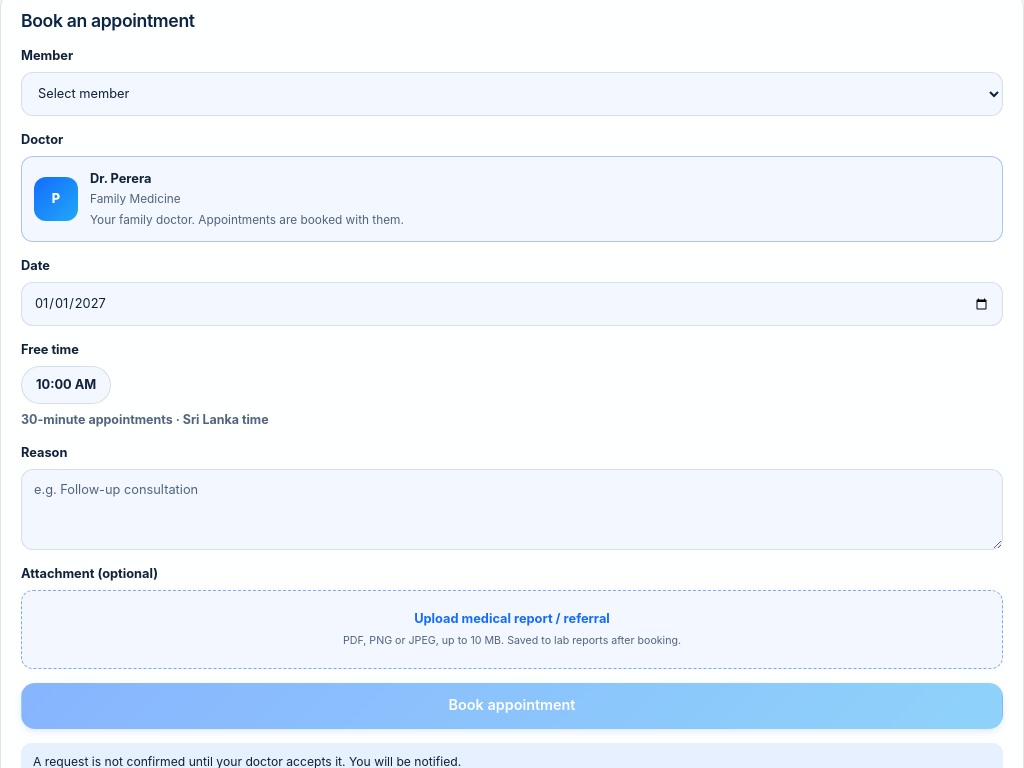
Scenario: AppointmentsPage booking form › clears a rejected selection and refreshes availability with the server reason
(page scrolled)
Click the button "10:00 AM". click: point(66, 385)
box: [21,366,111,404]
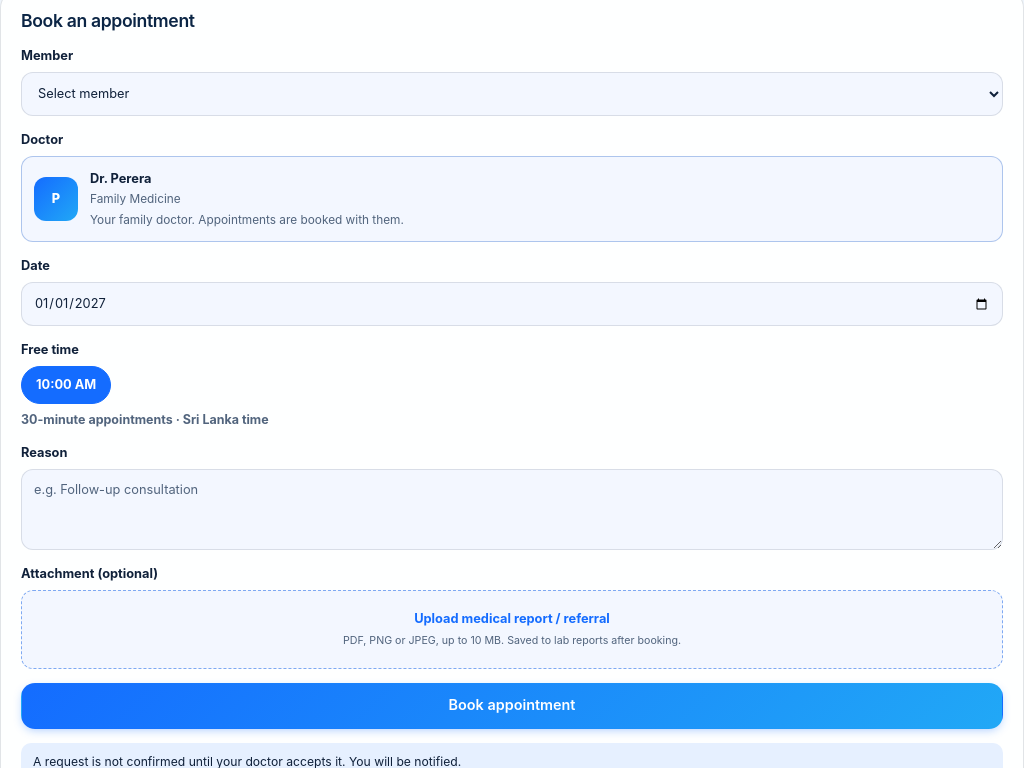
Select "Me" in the dropdown labelled "Member". click: point(512, 94)
box: [21,72,1003,116]
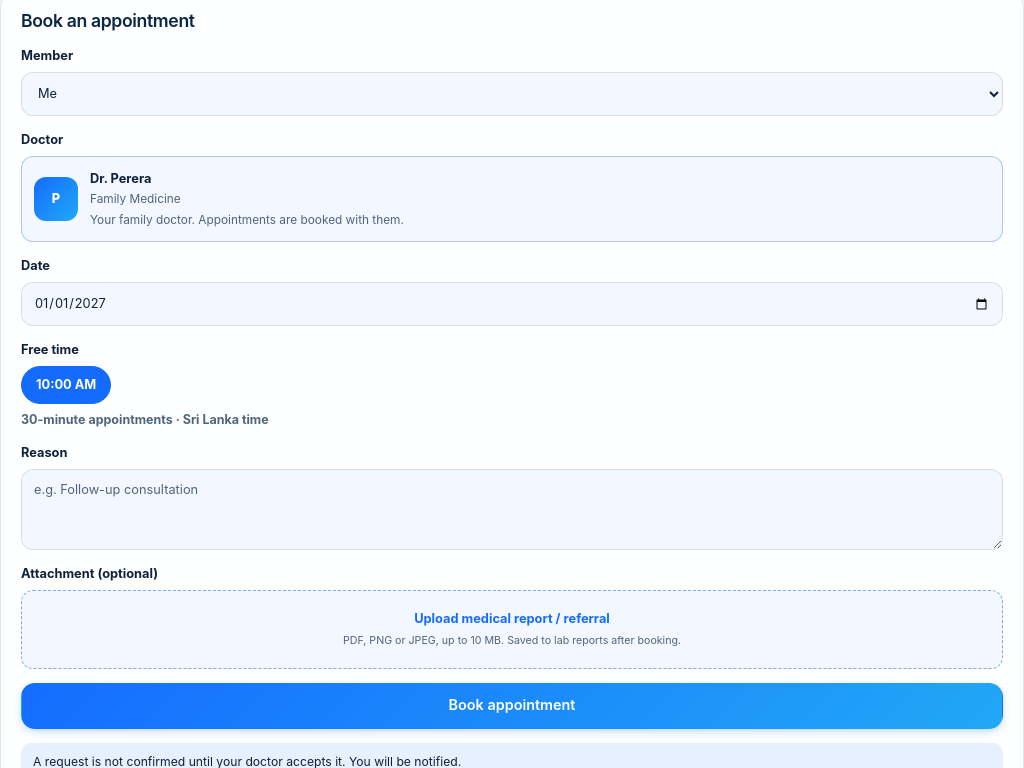
Type "Synthetic follow-up" into the text box labelled "Reason". click: point(512, 510)
box: [21,469,1003,550]
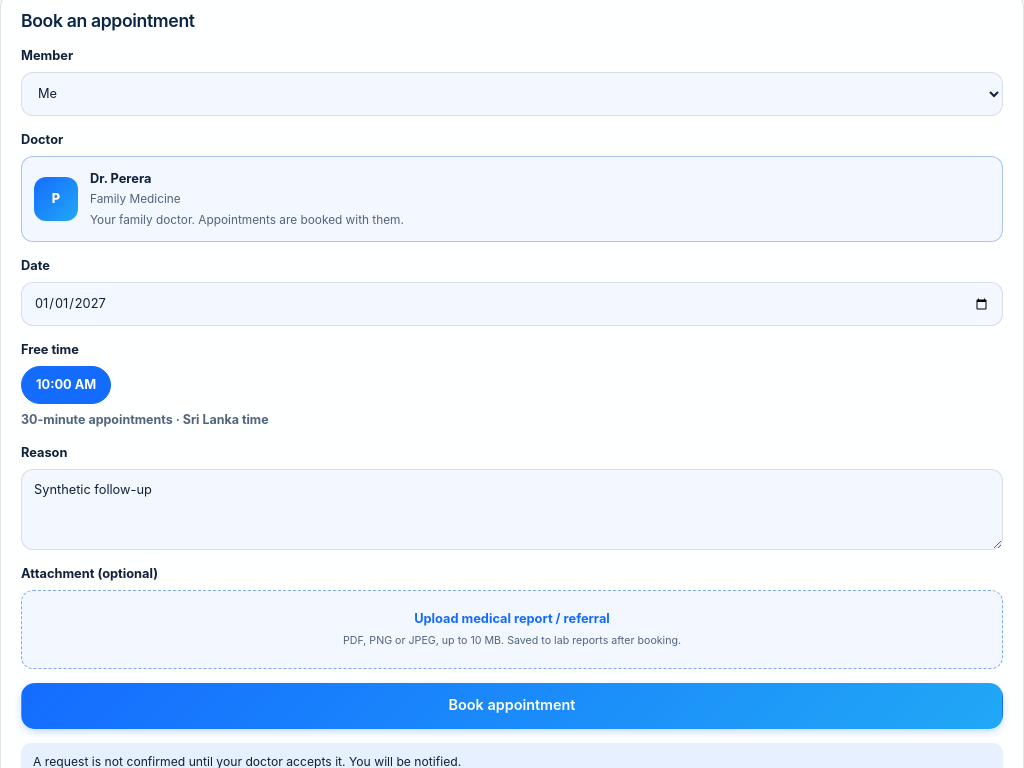
Click the button "Book appointment". click: point(512, 706)
box: [21,683,1003,729]
(page scrolled)
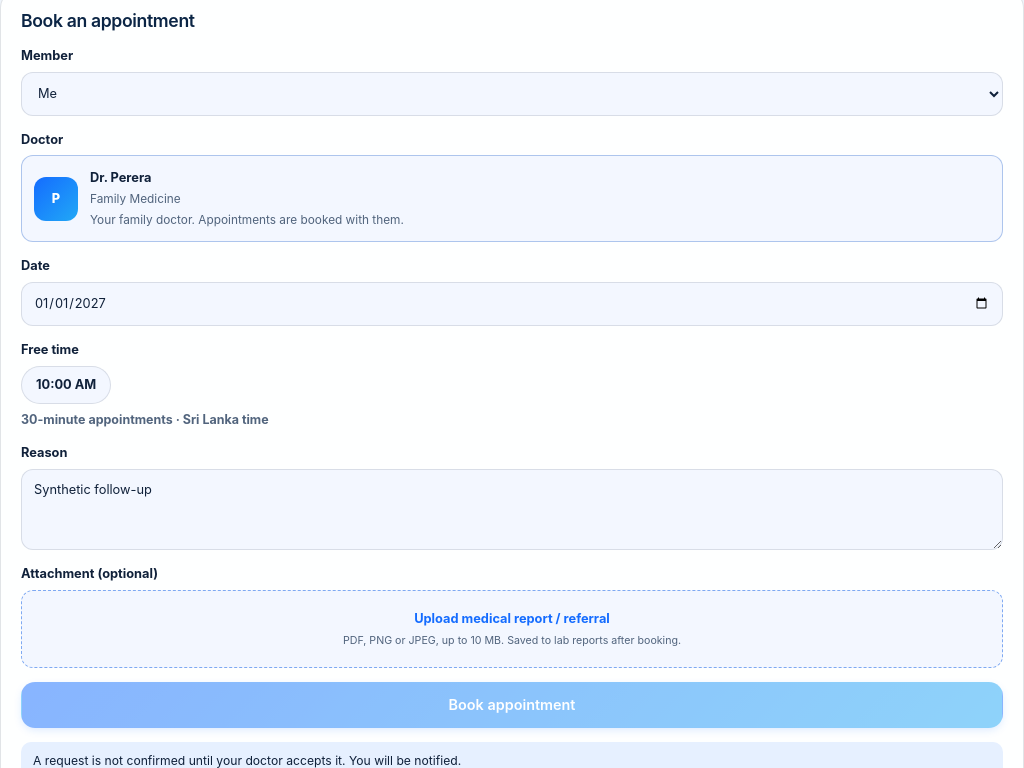
Expected: the button "Book appointment" is disabled, [21,682,1003,728]
